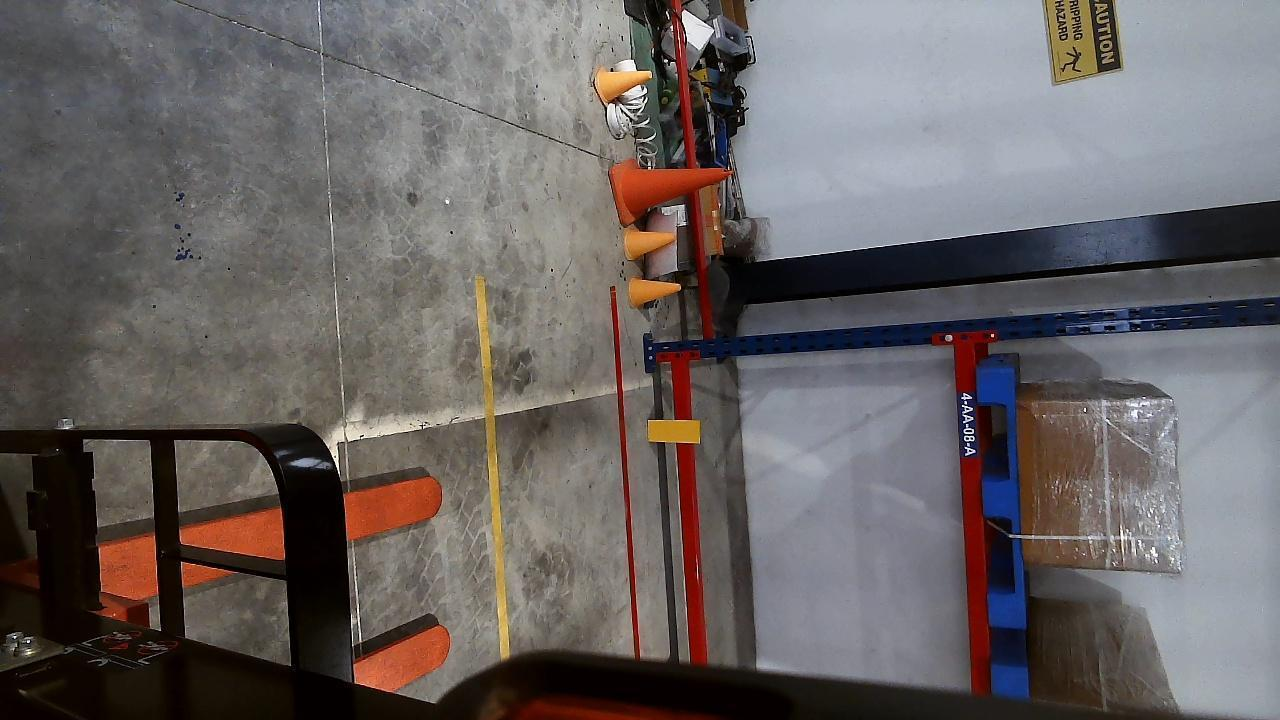red_line: (607, 285, 642, 662)
yellow_line: (473, 276, 507, 686)
